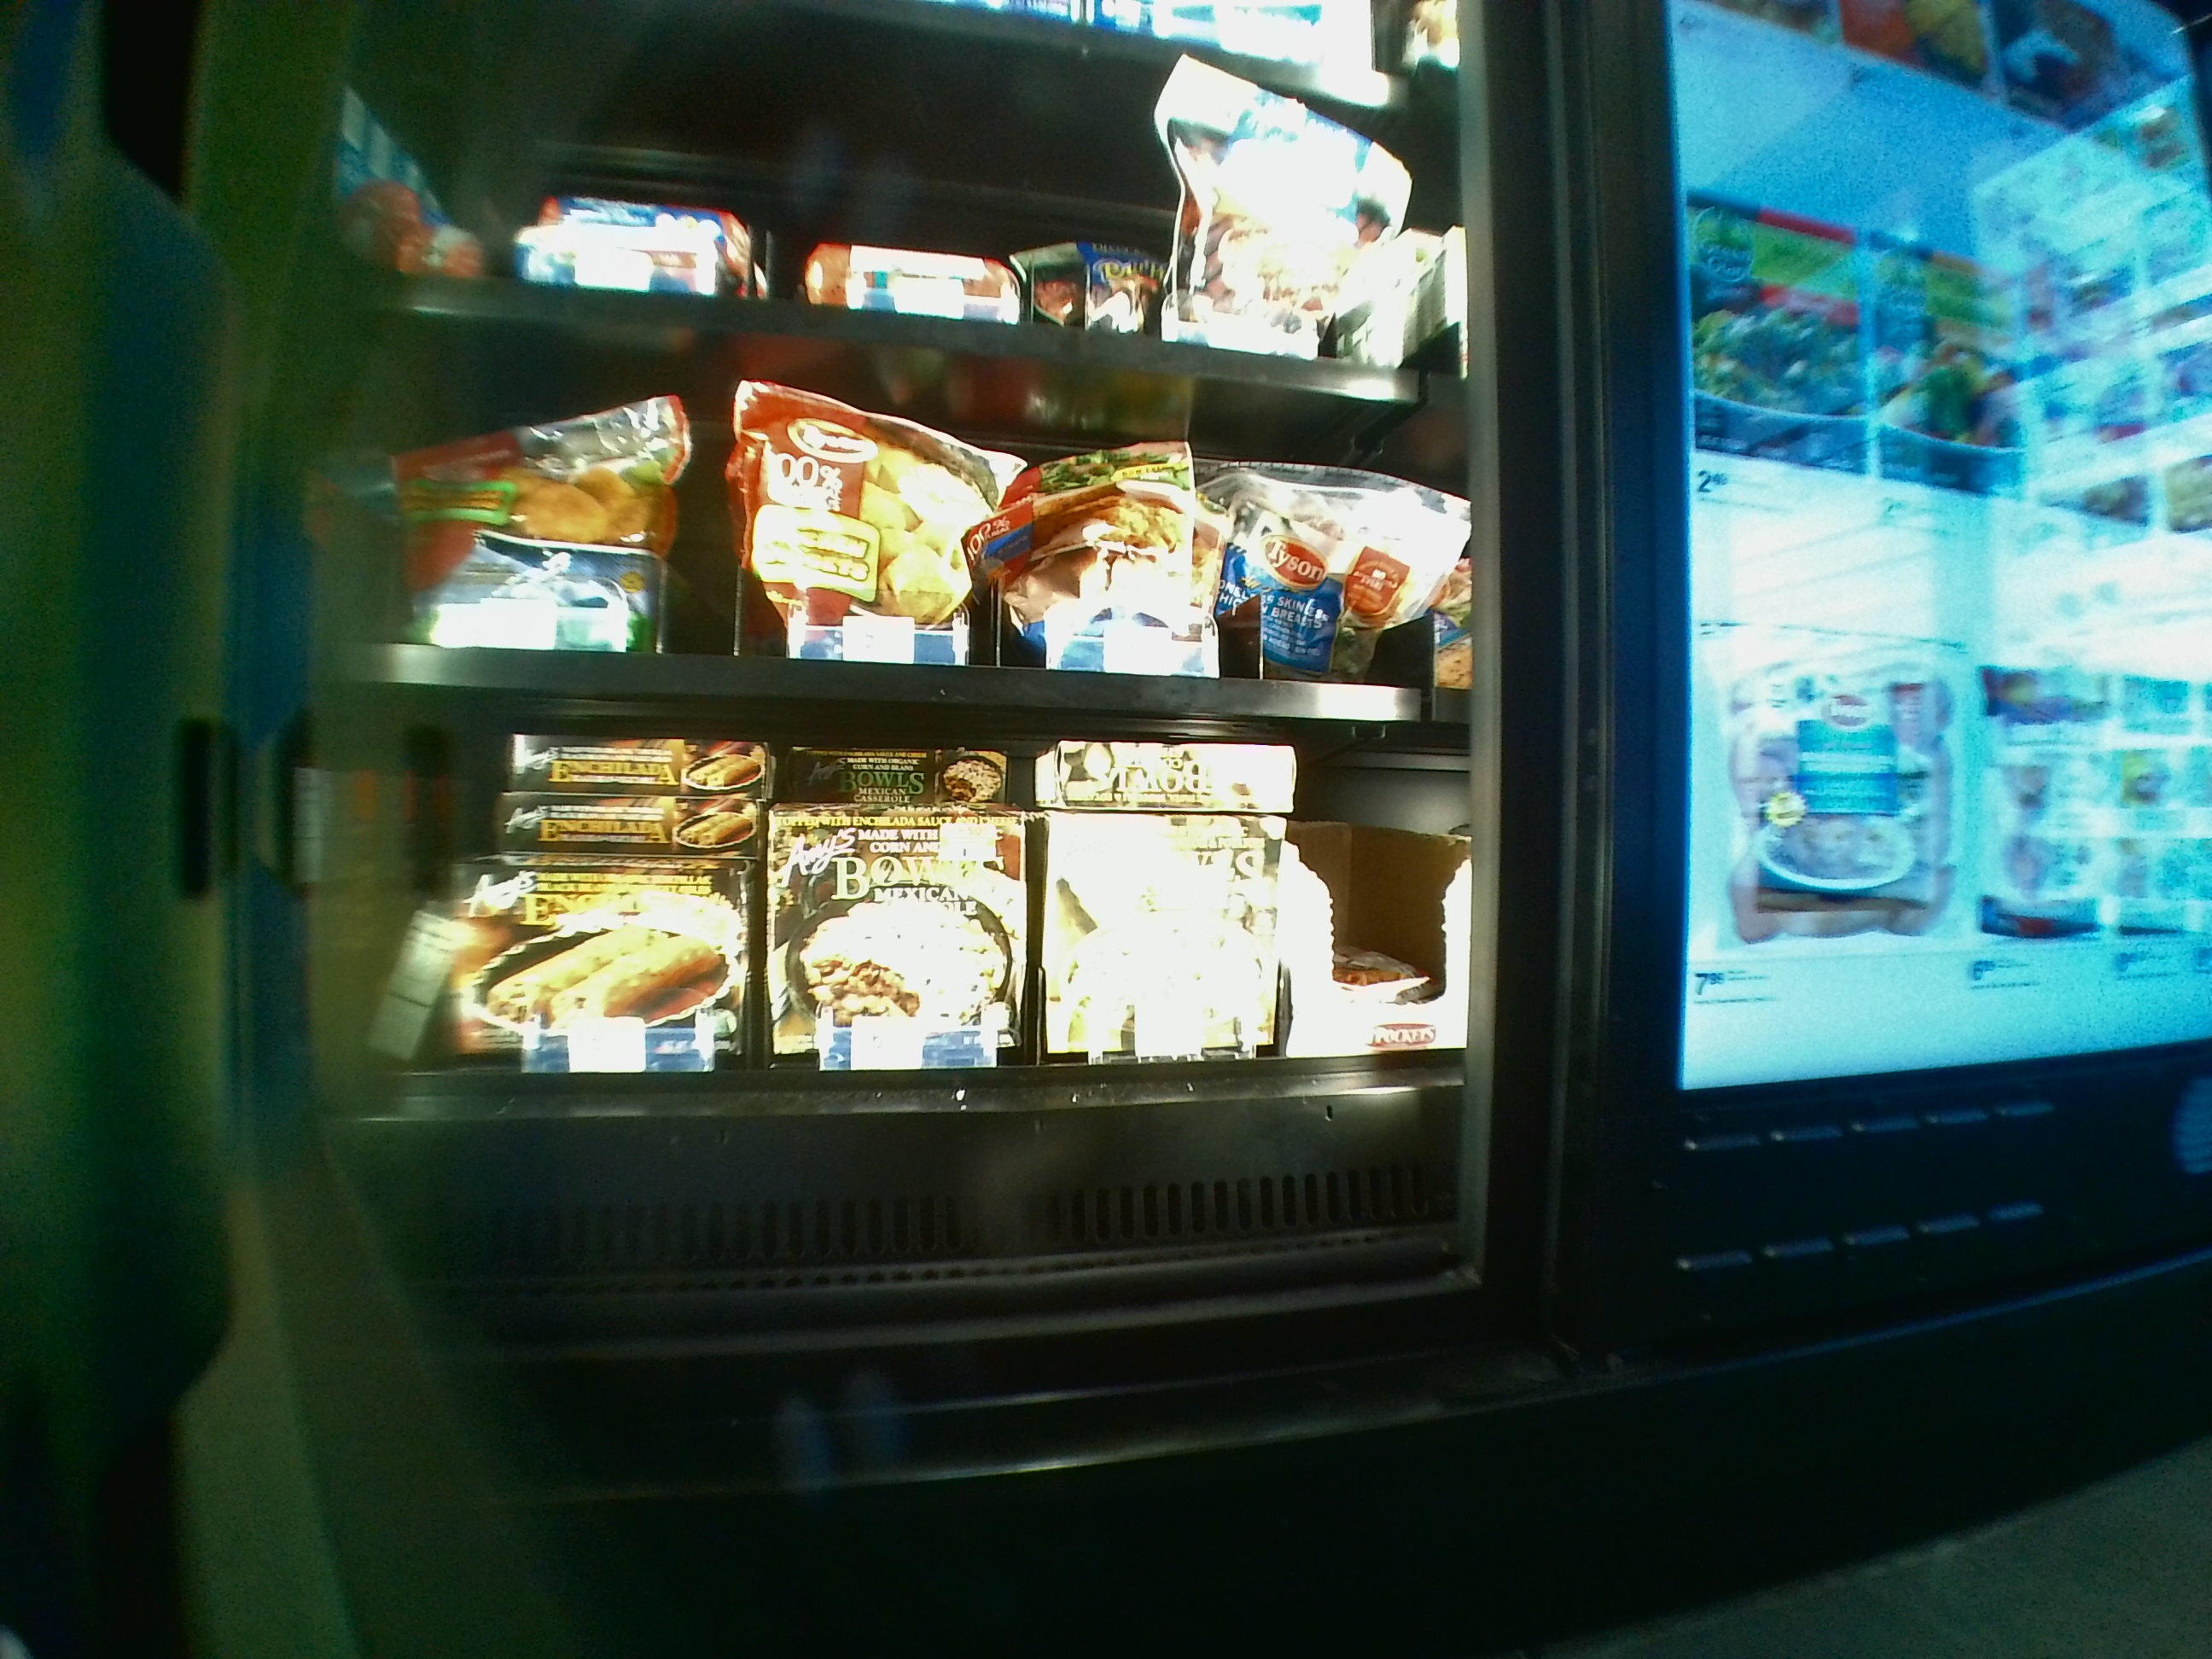shelf: (326, 721, 1451, 1288), (331, 317, 1446, 716)
